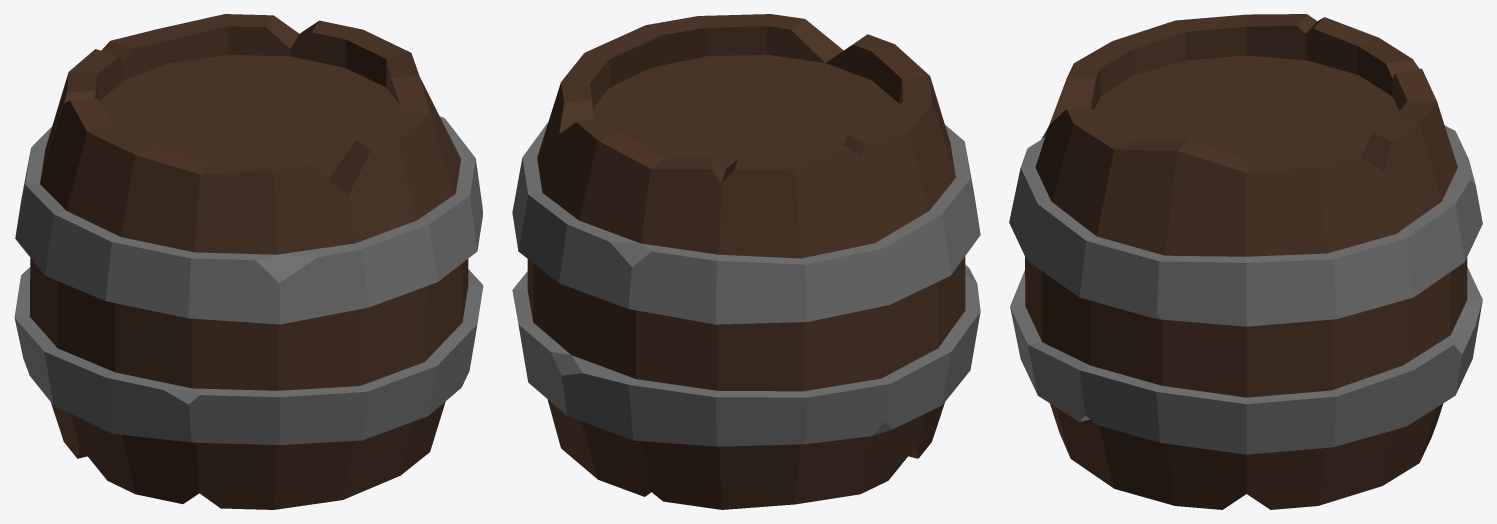
File: Oilbarreldark.fbx
3 renders of one model, left to right at view 1: azimuth 30°, elevation 25°; view 2: azimuth 150°, elevation 25°; view 3: azimuth 270°, elevation 25°, orthographic.
Visible parts, largest first — view 1: Cylinder; view 2: Cylinder; view 3: Cylinder.
Part boxes in pixels (<box>): Cylinder: <box>14,14,483,509</box>; Cylinder: <box>512,14,980,509</box>; Cylinder: <box>1009,14,1482,509</box>.
Bounding box in the file's own units: 85.62 × 69.51 × 85.76.
